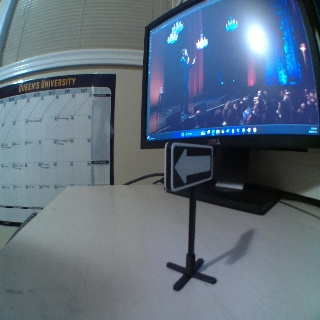sign_oneway_left: (164, 141, 212, 191)
